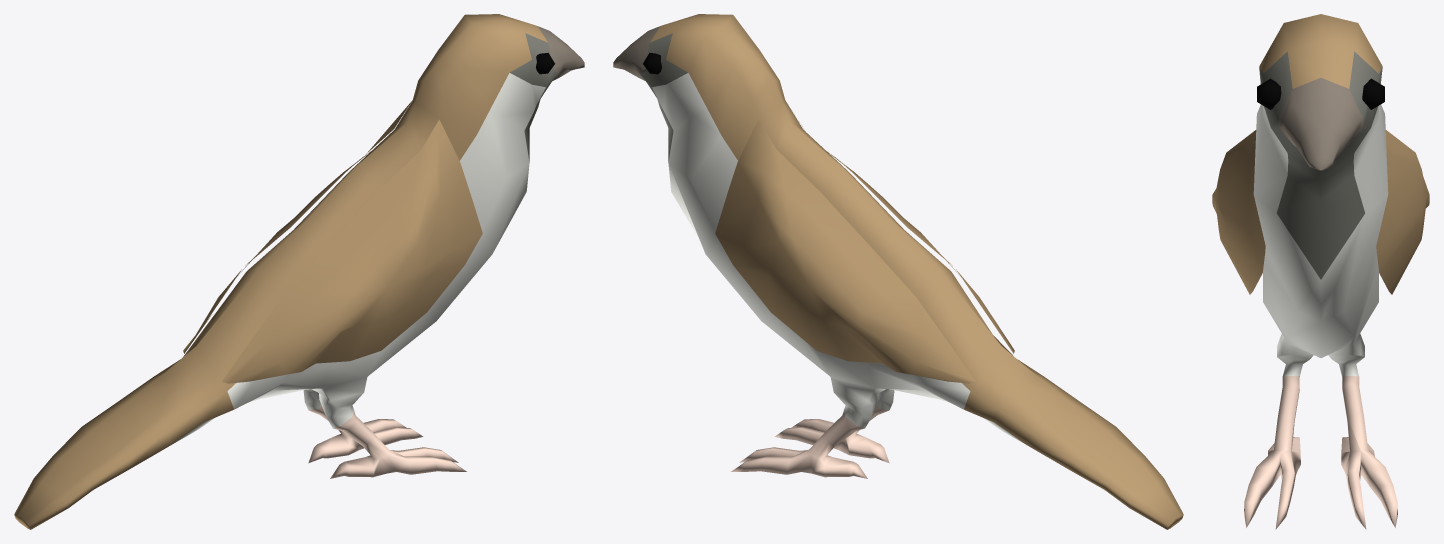
File: 4uL9XFDcdQK.glb
3 renders of one model, left to right at view 1: azimuth 30°, elevation 25°; view 2: azimuth 150°, elevation 25°; view 3: azimuth 270°, elevation 25°, orthographic. The views are drawn at different scales.
Visible parts, largest first — view 1: Sparrow.2; view 2: Sparrow.2; view 3: Sparrow.2.
Boxes of the visible parts, x1,y1,x2,y2 form: Sparrow.2: [14, 14, 584, 529]; Sparrow.2: [613, 14, 1183, 529]; Sparrow.2: [1212, 14, 1429, 529].
Size of the model in its own units: 1.41 by 1 by 0.3679.
